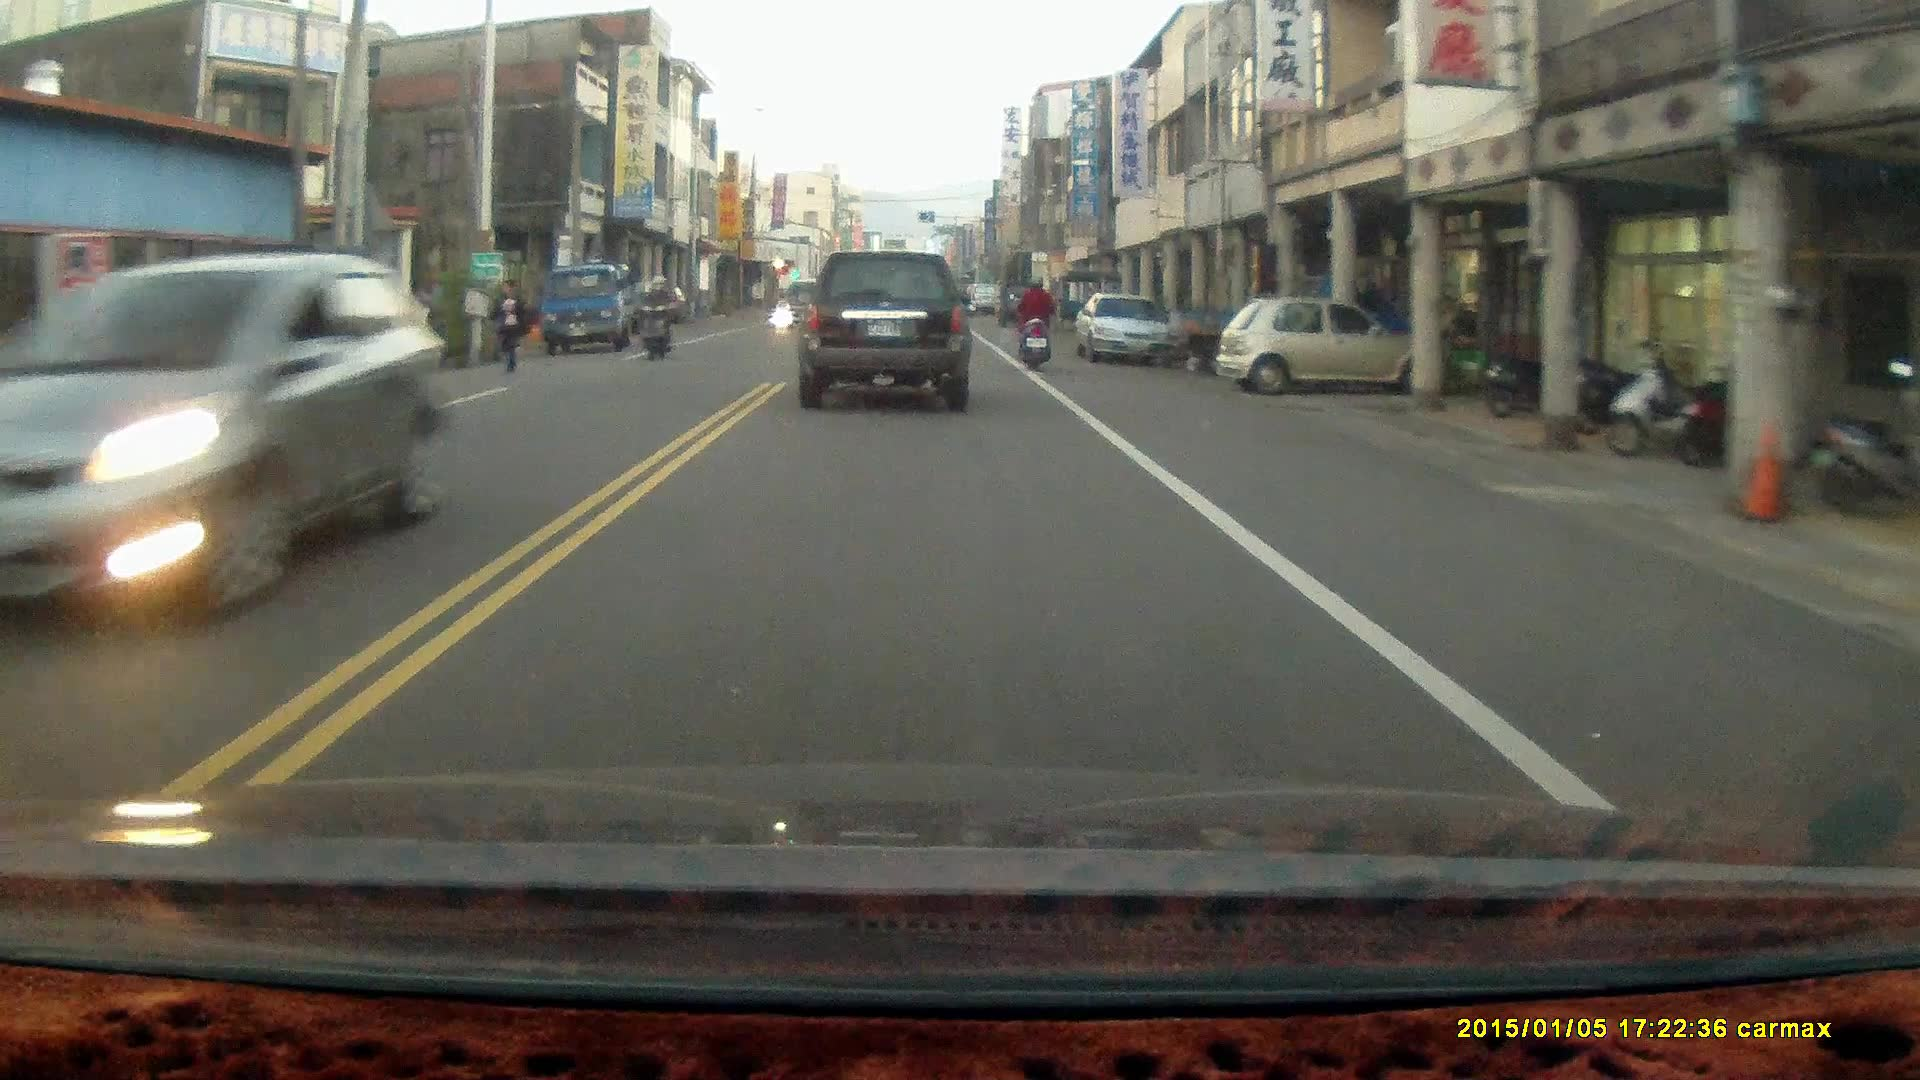pedestrian: (493, 279, 532, 376)
rider: (1014, 275, 1053, 373), (631, 276, 674, 362)
vehicle: (1, 255, 461, 631), (793, 250, 973, 419), (1220, 300, 1444, 398), (542, 263, 668, 357), (1075, 298, 1176, 372)
